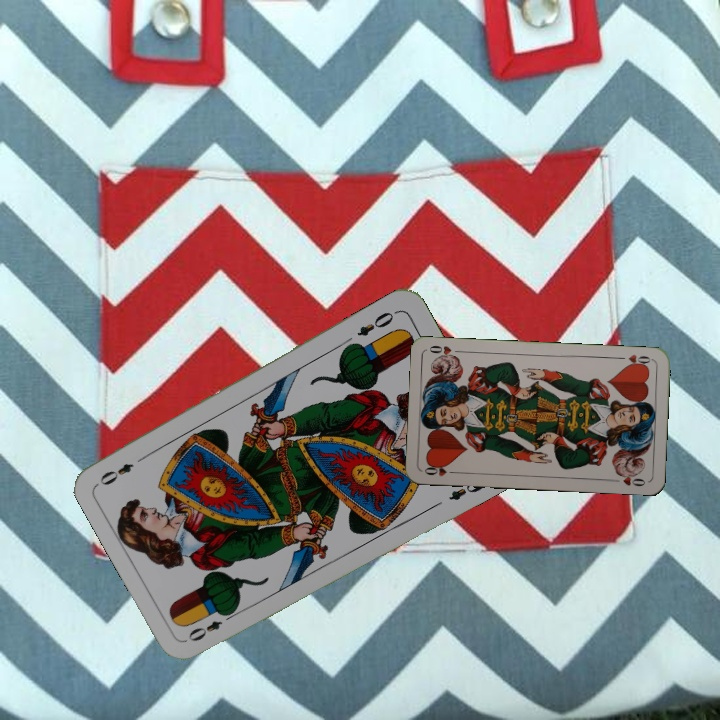EO: (184, 607, 238, 644), (353, 306, 400, 339)
HO: (614, 350, 654, 369), (420, 461, 460, 479)
